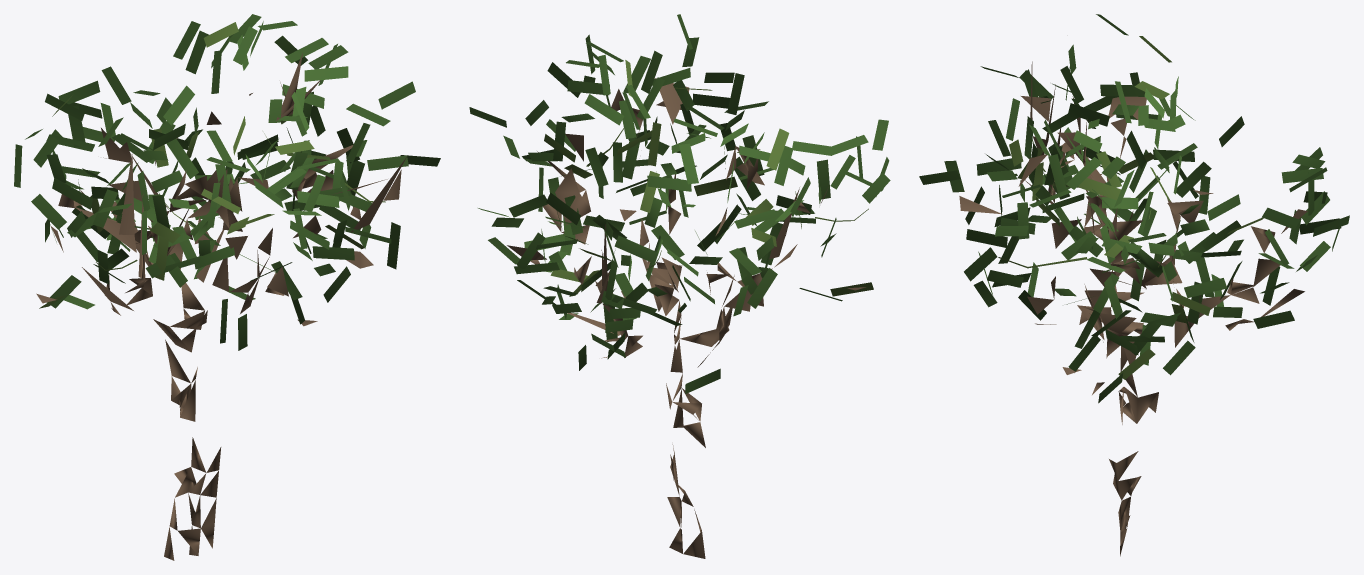
File: arvore_1_muito_longe.glb
3 views of the same model, side by side, from view 1: azimuth 30°, elevation 25°; view 2: azimuth 150°, elevation 25°; view 3: azimuth 270°, elevation 25° (orthographic). The views are drawn at different scales.
Parts seen in each view (by area): view 1: arvore_1_muito_longe; view 2: arvore_1_muito_longe; view 3: arvore_1_muito_longe.
Part boxes in pixels (left/top/right/bottom): arvore_1_muito_longe: left=14, top=14, right=440, bottom=560; arvore_1_muito_longe: left=469, top=14, right=890, bottom=558; arvore_1_muito_longe: left=919, top=14, right=1349, bottom=556.
Bounding box in the file's own units: 2.02 × 2.54 × 1.88.
